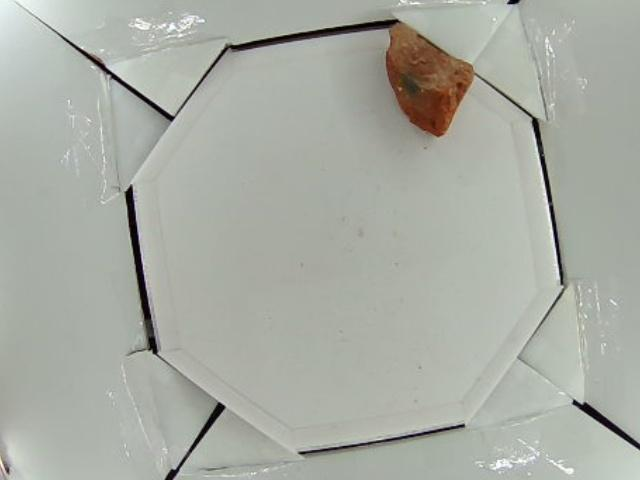Brisk: (385, 23, 475, 137)
